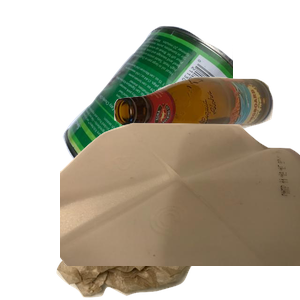glass: (111, 74, 300, 204)
metal: (60, 23, 300, 203)
plastic: (60, 120, 300, 300)
trash: (54, 147, 271, 300)
